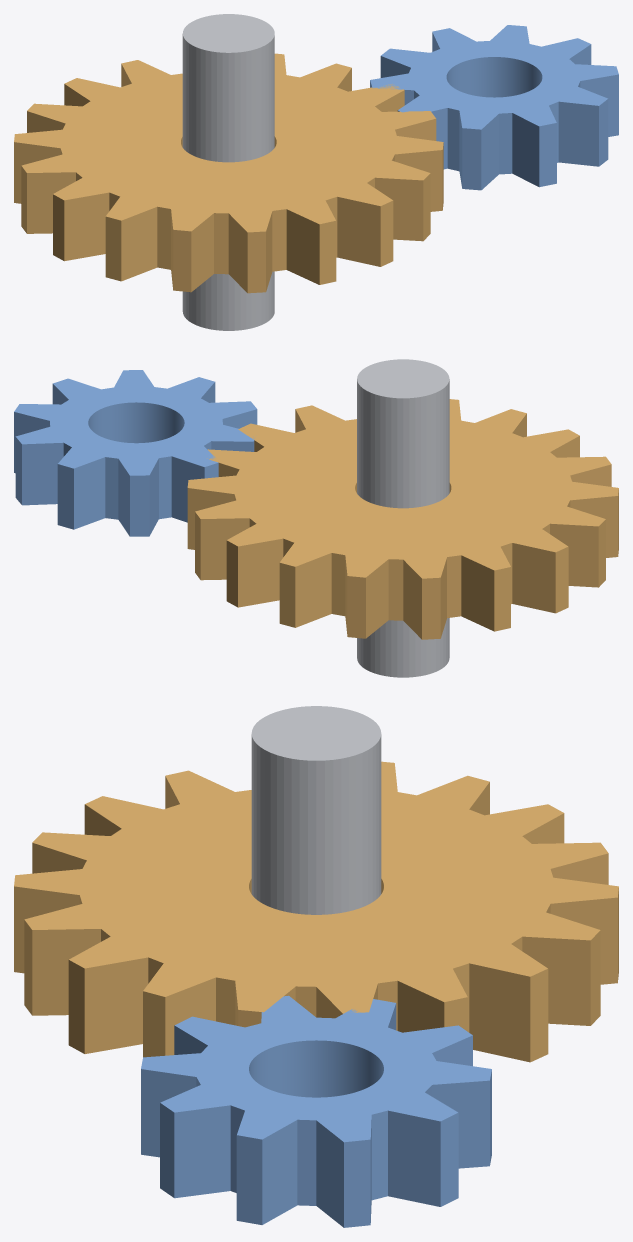
The model's file is placeholder-gears.glb.
The picture shows the model from 3 angles, top to bottom: view 1: azimuth 30°, elevation 25°; view 2: azimuth 150°, elevation 25°; view 3: azimuth 270°, elevation 25°; orthographic projection. The views are drawn at different scales.
Parts seen in each view (by area): view 1: geometry_0, geometry_2, geometry_1; view 2: geometry_0, geometry_2, geometry_1; view 3: geometry_0, geometry_2, geometry_1.
Boxes of the visible parts, x1=… form: geometry_0: x1=14, y1=53, x2=443, y2=293; geometry_2: x1=370, y1=25, x2=618, y2=190; geometry_1: x1=182, y1=14, x2=274, y2=330; geometry_0: x1=187, y1=399, x2=618, y2=639; geometry_2: x1=14, y1=370, x2=257, y2=536; geometry_1: x1=357, y1=359, x2=449, y2=677; geometry_0: x1=14, y1=761, x2=618, y2=1062; geometry_2: x1=141, y1=995, x2=491, y2=1227; geometry_1: x1=251, y1=706, x2=381, y2=914.
Size of the model in its own units: 3.36 by 1.6 by 2.24.
